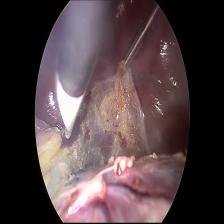Grasper: (113, 5, 160, 80)
Hook: (51, 78, 87, 146)
